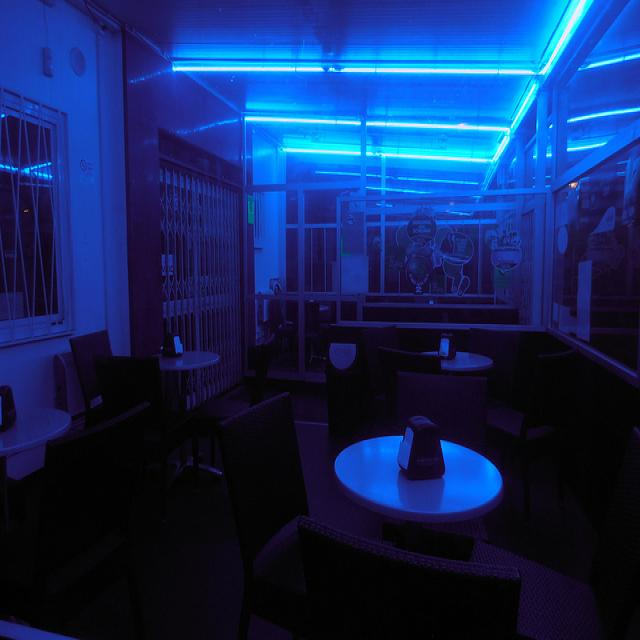Table: (329, 410, 507, 538), (0, 379, 74, 487), (154, 316, 232, 416), (418, 318, 514, 388)
